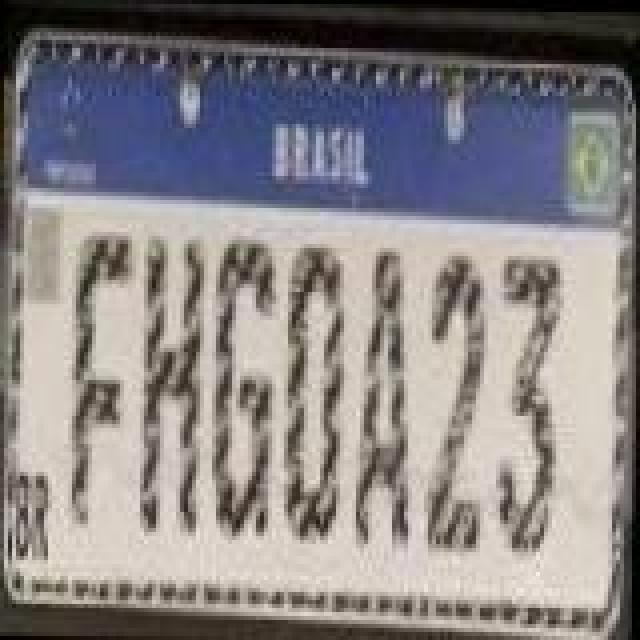2: (426, 250, 486, 550)
3: (498, 252, 566, 560)
A: (358, 248, 418, 548)
D: (284, 242, 348, 550)
F: (66, 228, 134, 528)
G: (212, 238, 276, 538)
H: (140, 238, 204, 538)
